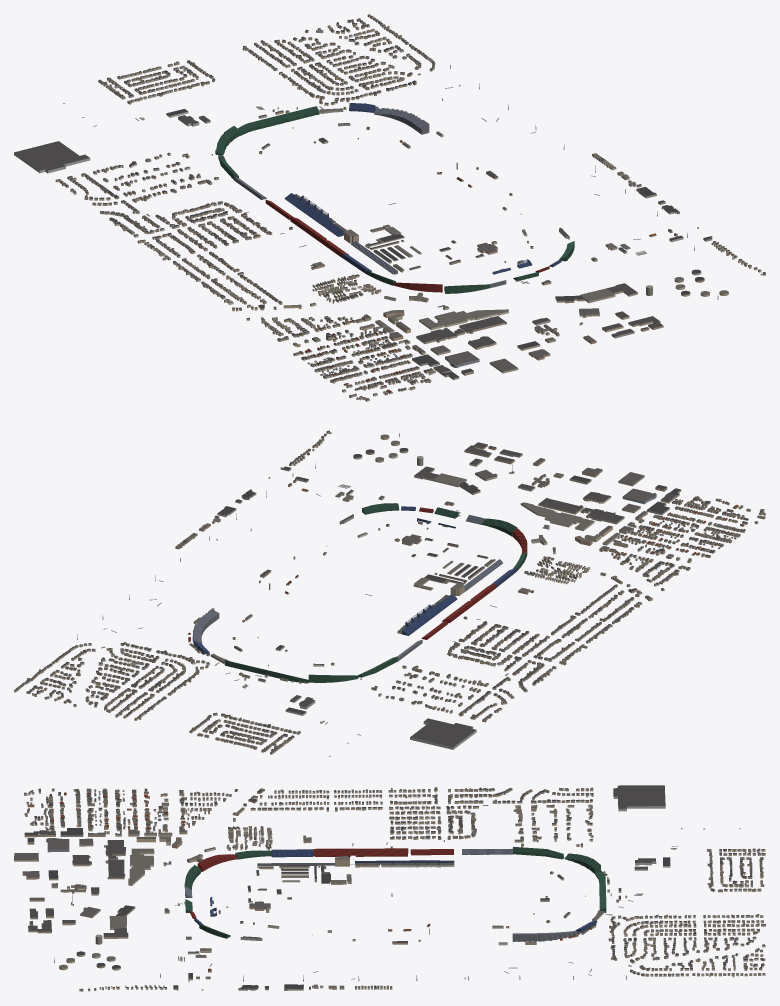
File: scenery.glb
3 views of the same model, one above another, from view 1: azimuth 30°, elevation 25°; view 2: azimuth 150°, elevation 25°; view 3: azimuth 270°, elevation 25° (orthographic). The views are drawn at different scales.
Parts seen in each view (by area): view 1: chunk_13_18, chunk_14_17, chunk_15_12, chunk_12_13, chunk_13_17, chunk_15_18, chunk_16_12, chunk_13_15, chunk_14_12, chunk_13_14, chunk_14_13, chunk_12_18 (+11 smaller); view 2: chunk_13_18, chunk_15_12, chunk_12_13, chunk_14_17, chunk_13_17, chunk_15_18, chunk_16_12, chunk_13_15, chunk_14_12, chunk_13_14, chunk_12_18, chunk_14_18 (+11 smaller); view 3: chunk_13_18, chunk_13_15, chunk_15_12, chunk_12_13, chunk_13_14, chunk_14_17, chunk_16_12, chunk_13_17, chunk_15_18, chunk_13_16, chunk_14_18, chunk_12_15 (+16 smaller).
Part boxes in pixels (x1,y1,x2,y2): chunk_13_18: [355, 328, 518, 390]; chunk_14_17: [392, 267, 510, 330]; chunk_15_12: [242, 36, 357, 86]; chunk_12_13: [14, 141, 123, 195]; chunk_13_17: [308, 287, 410, 348]; chunk_15_18: [555, 283, 663, 338]; chunk_16_12: [305, 14, 426, 71]; chunk_13_15: [187, 200, 348, 257]; chunk_14_12: [117, 60, 215, 117]; chunk_13_14: [142, 154, 266, 226]; chunk_14_13: [178, 106, 319, 155]; chunk_12_18: [307, 349, 406, 401]; chunk_13_18: [580, 472, 721, 537]; chunk_15_12: [85, 668, 187, 720]; chunk_12_13: [410, 695, 502, 749]; chunk_14_17: [438, 502, 594, 556]; chunk_13_17: [541, 525, 667, 576]; chunk_15_18: [414, 442, 522, 494]; chunk_16_12: [14, 651, 126, 707]; chunk_13_15: [421, 583, 539, 654]; chunk_14_12: [189, 707, 306, 749]; chunk_13_14: [357, 639, 512, 687]; chunk_12_18: [674, 501, 765, 549]; chunk_14_18: [518, 458, 611, 514]; chunk_13_18: [14, 810, 132, 861]; chunk_13_15: [313, 810, 453, 856]; chunk_15_12: [659, 914, 765, 946]; chunk_12_13: [552, 785, 665, 811]; chunk_13_14: [446, 810, 563, 859]; chunk_14_17: [128, 848, 237, 906]; chunk_16_12: [659, 943, 765, 977]; chunk_13_17: [132, 811, 238, 852]; chunk_15_18: [28, 895, 135, 944]; chunk_13_16: [232, 807, 313, 859]; chunk_14_18: [22, 855, 125, 901]; chunk_12_15: [341, 787, 440, 810].
Size of the model in its own units: 1825 by 43.34 by 2853.
